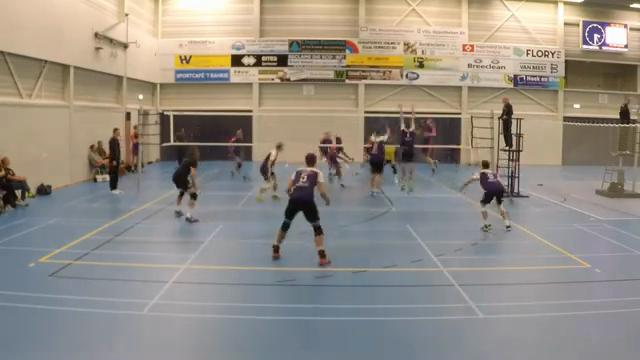Attack: (421, 111, 442, 179)
Block: (393, 101, 423, 200), (361, 119, 390, 198)
Player: (272, 153, 329, 265), (461, 160, 510, 231), (172, 147, 198, 222), (257, 142, 283, 201), (327, 145, 344, 187), (229, 129, 242, 177), (335, 134, 353, 161), (384, 146, 397, 183), (319, 132, 332, 160)
